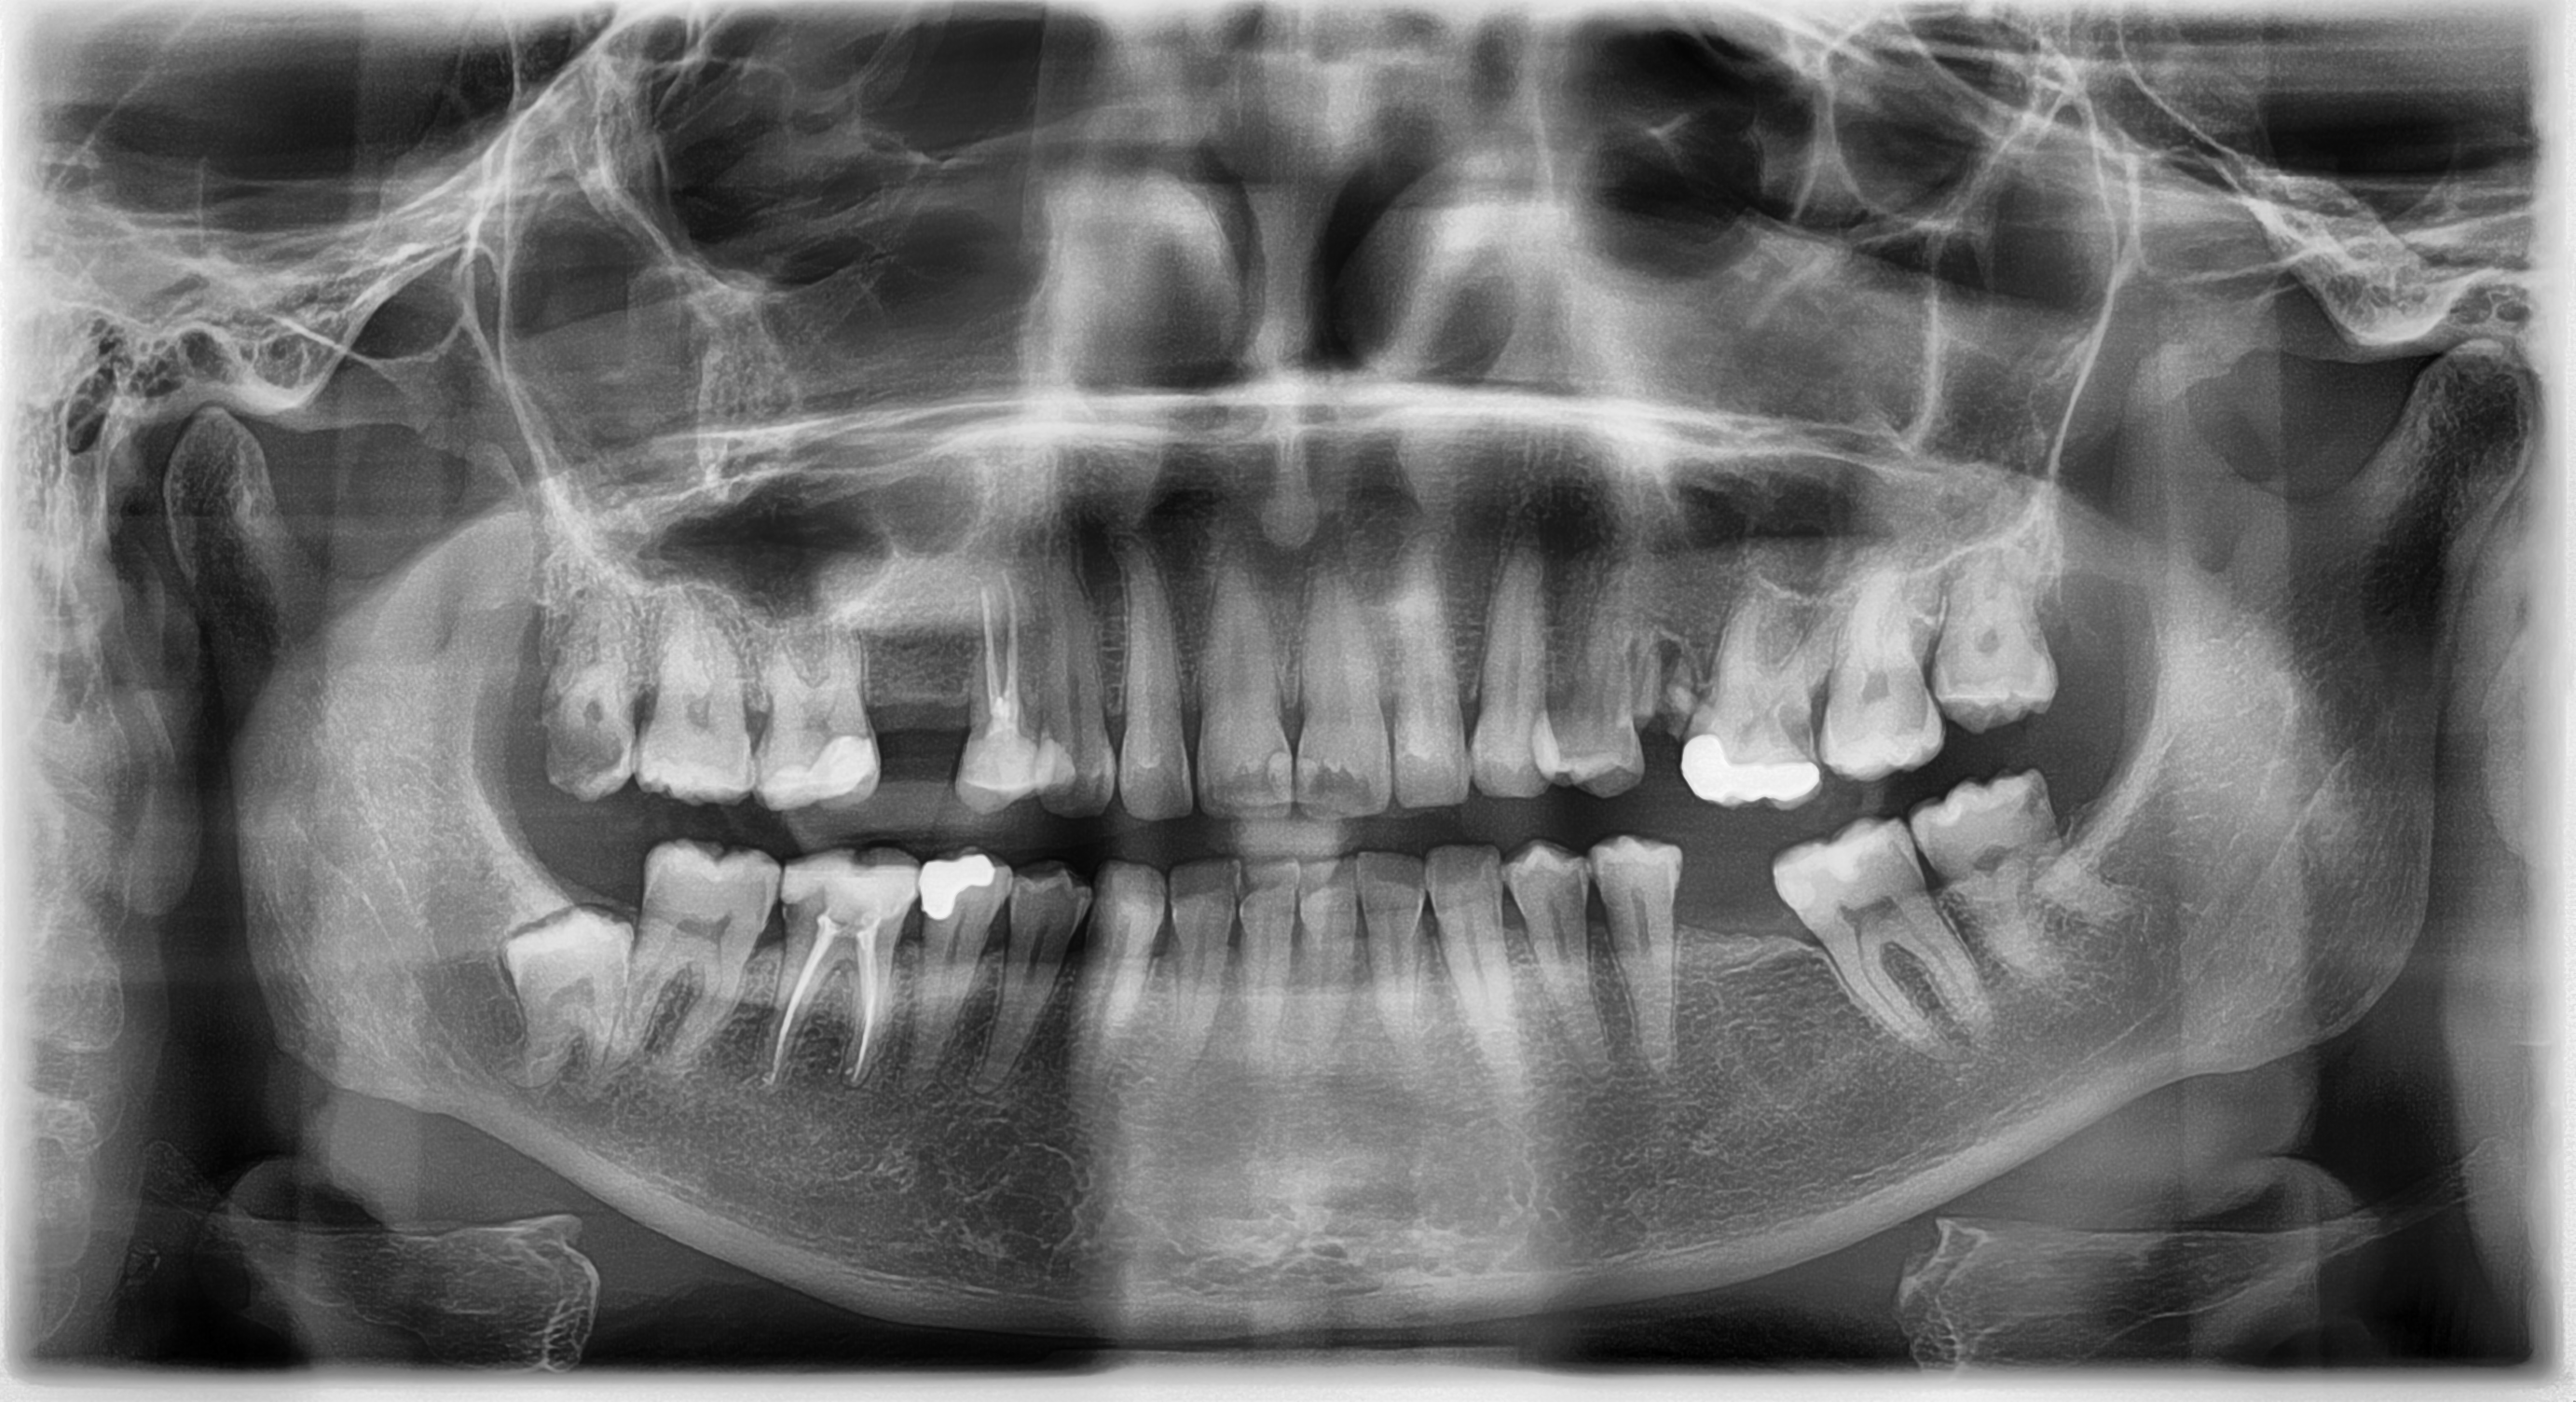cordal: (1894, 753, 2145, 1010), (1907, 497, 2110, 742), (459, 884, 659, 1112), (509, 585, 678, 817)
tratamiento_conducto: (747, 834, 942, 1096), (932, 558, 1087, 824)
zona_dentula: (1651, 834, 1860, 1074), (854, 599, 983, 832)
